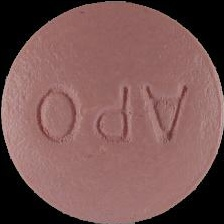68084-536: (0, 0, 224, 224)
